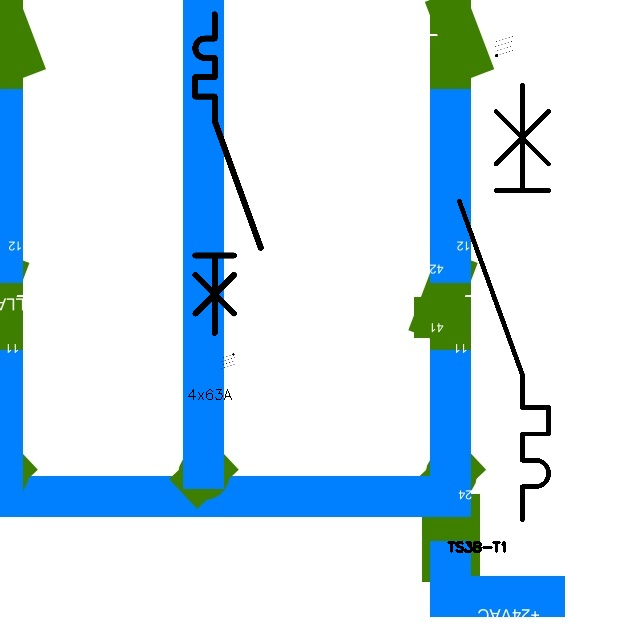interruptor_termomagnetico: (448, 73, 560, 531), (187, 6, 269, 341)
